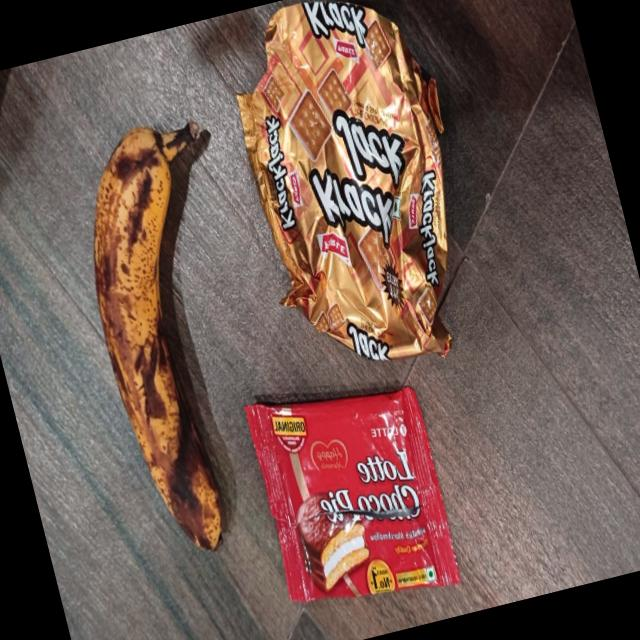Plastic-NonBio: (34, 114, 292, 564)
